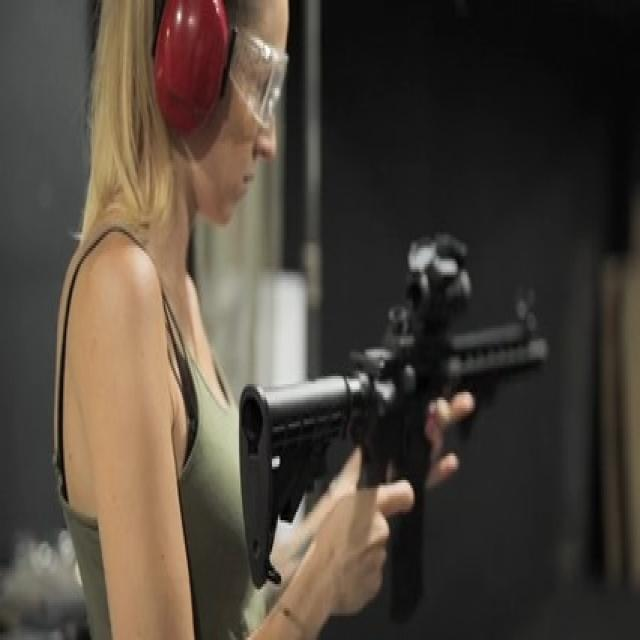Gun_Holder: (211, 232, 635, 640)
Person: (52, 0, 402, 640)
